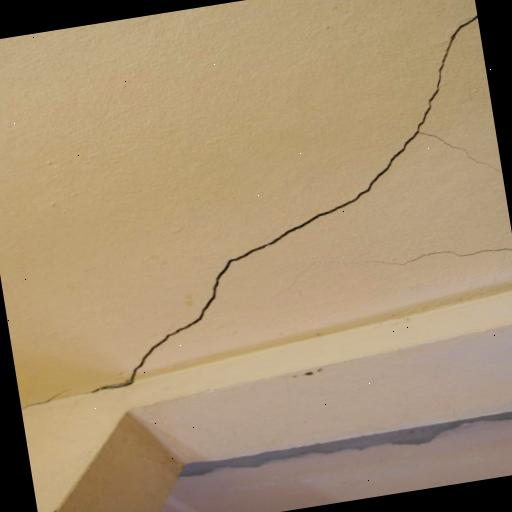spalling: (93, 10, 477, 396)
